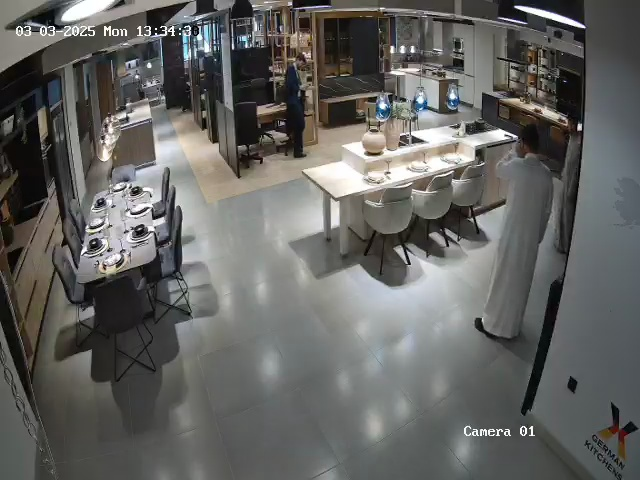employee: (285, 53, 309, 159)
male: (474, 123, 554, 341), (556, 107, 584, 262)
